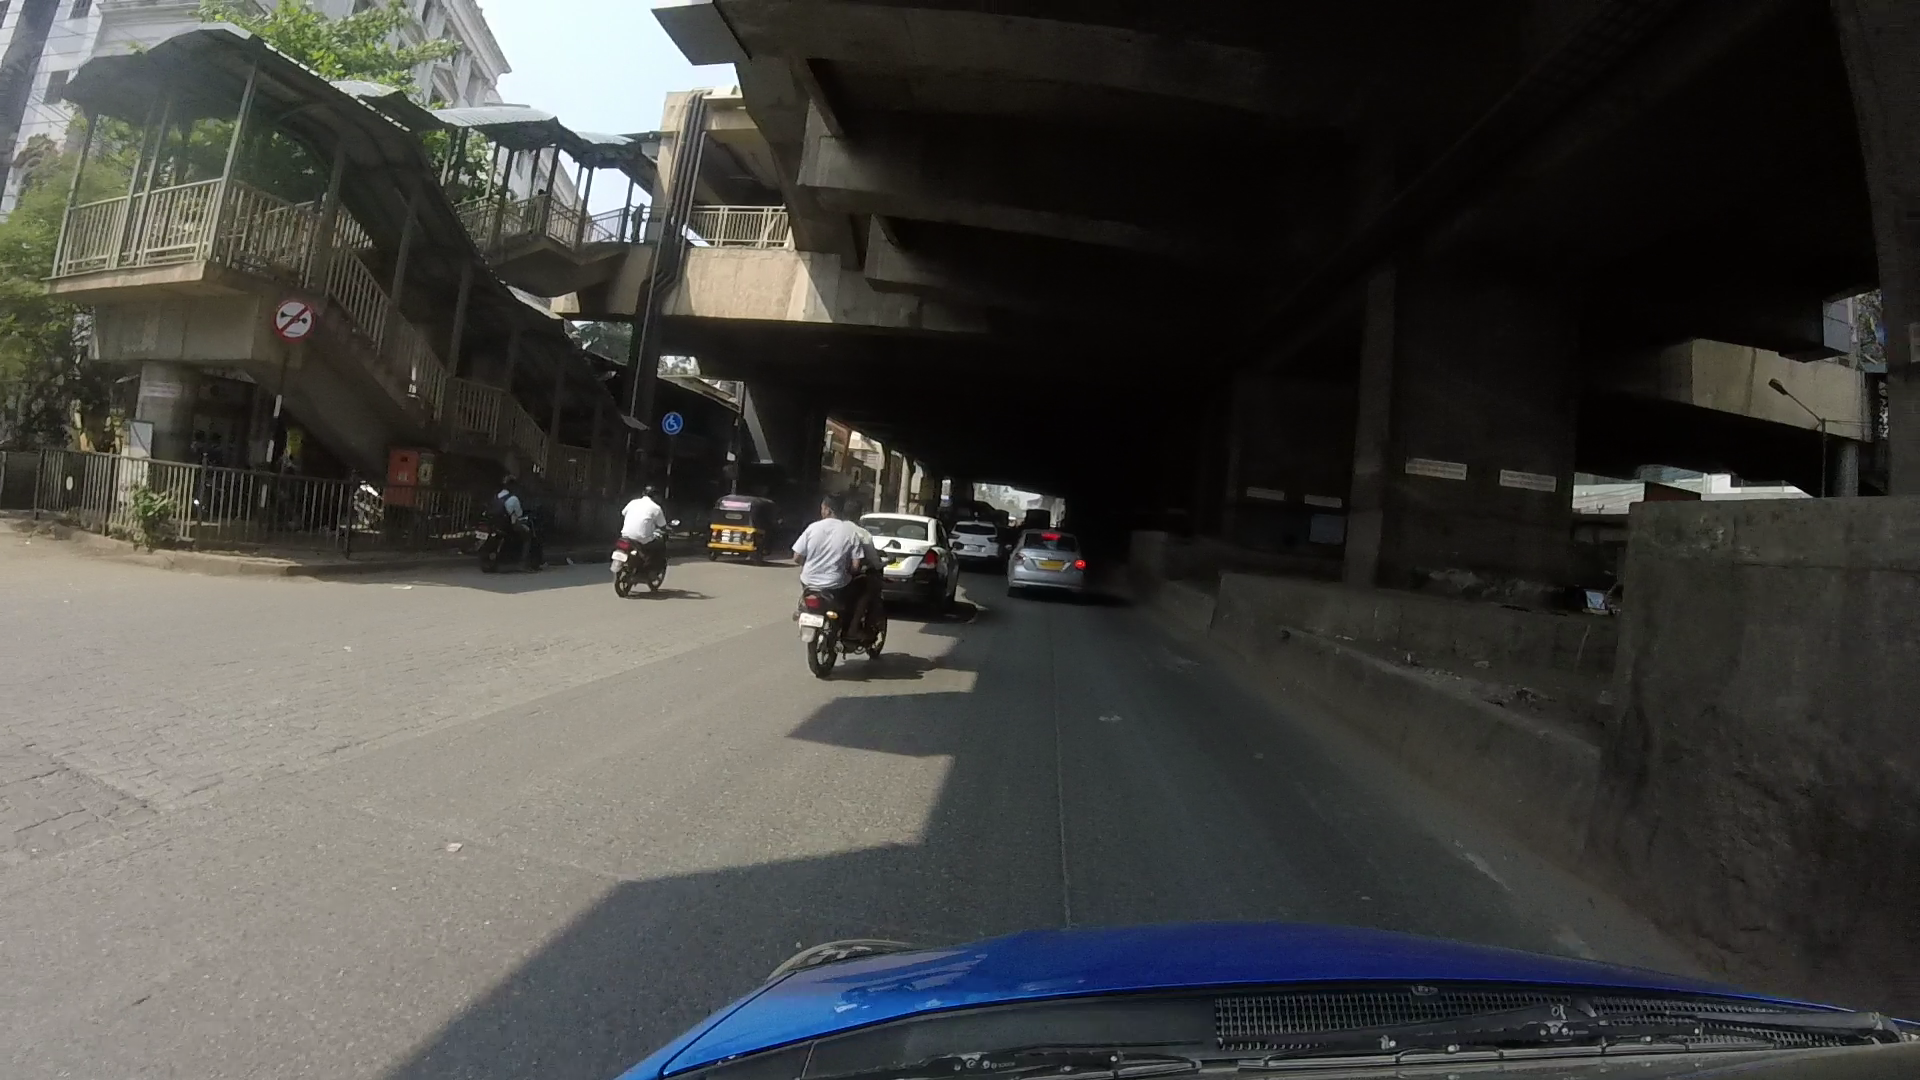bike/scooter: (796, 501, 895, 683), (596, 479, 661, 597)
car: (855, 510, 955, 597), (993, 527, 1077, 592)
